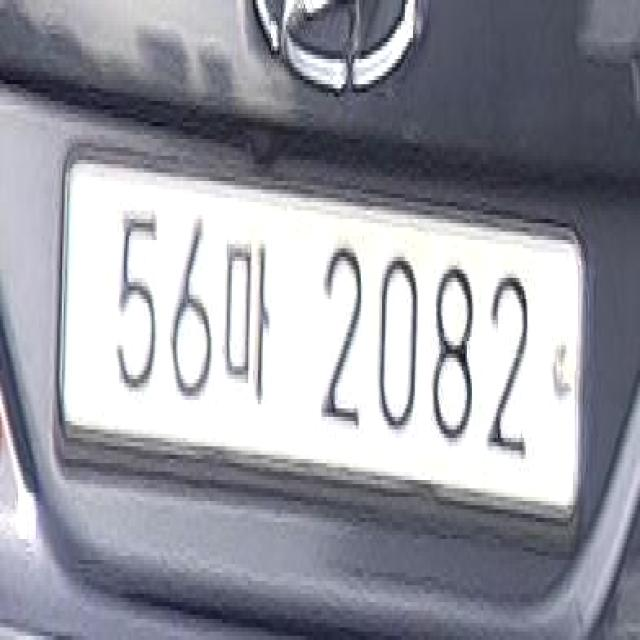illegal_plate: (66, 143, 590, 546)
